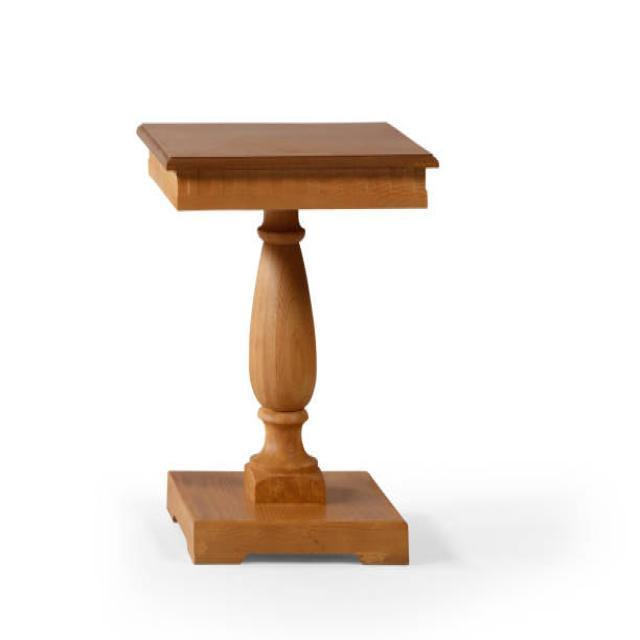table: (134, 118, 440, 565)
